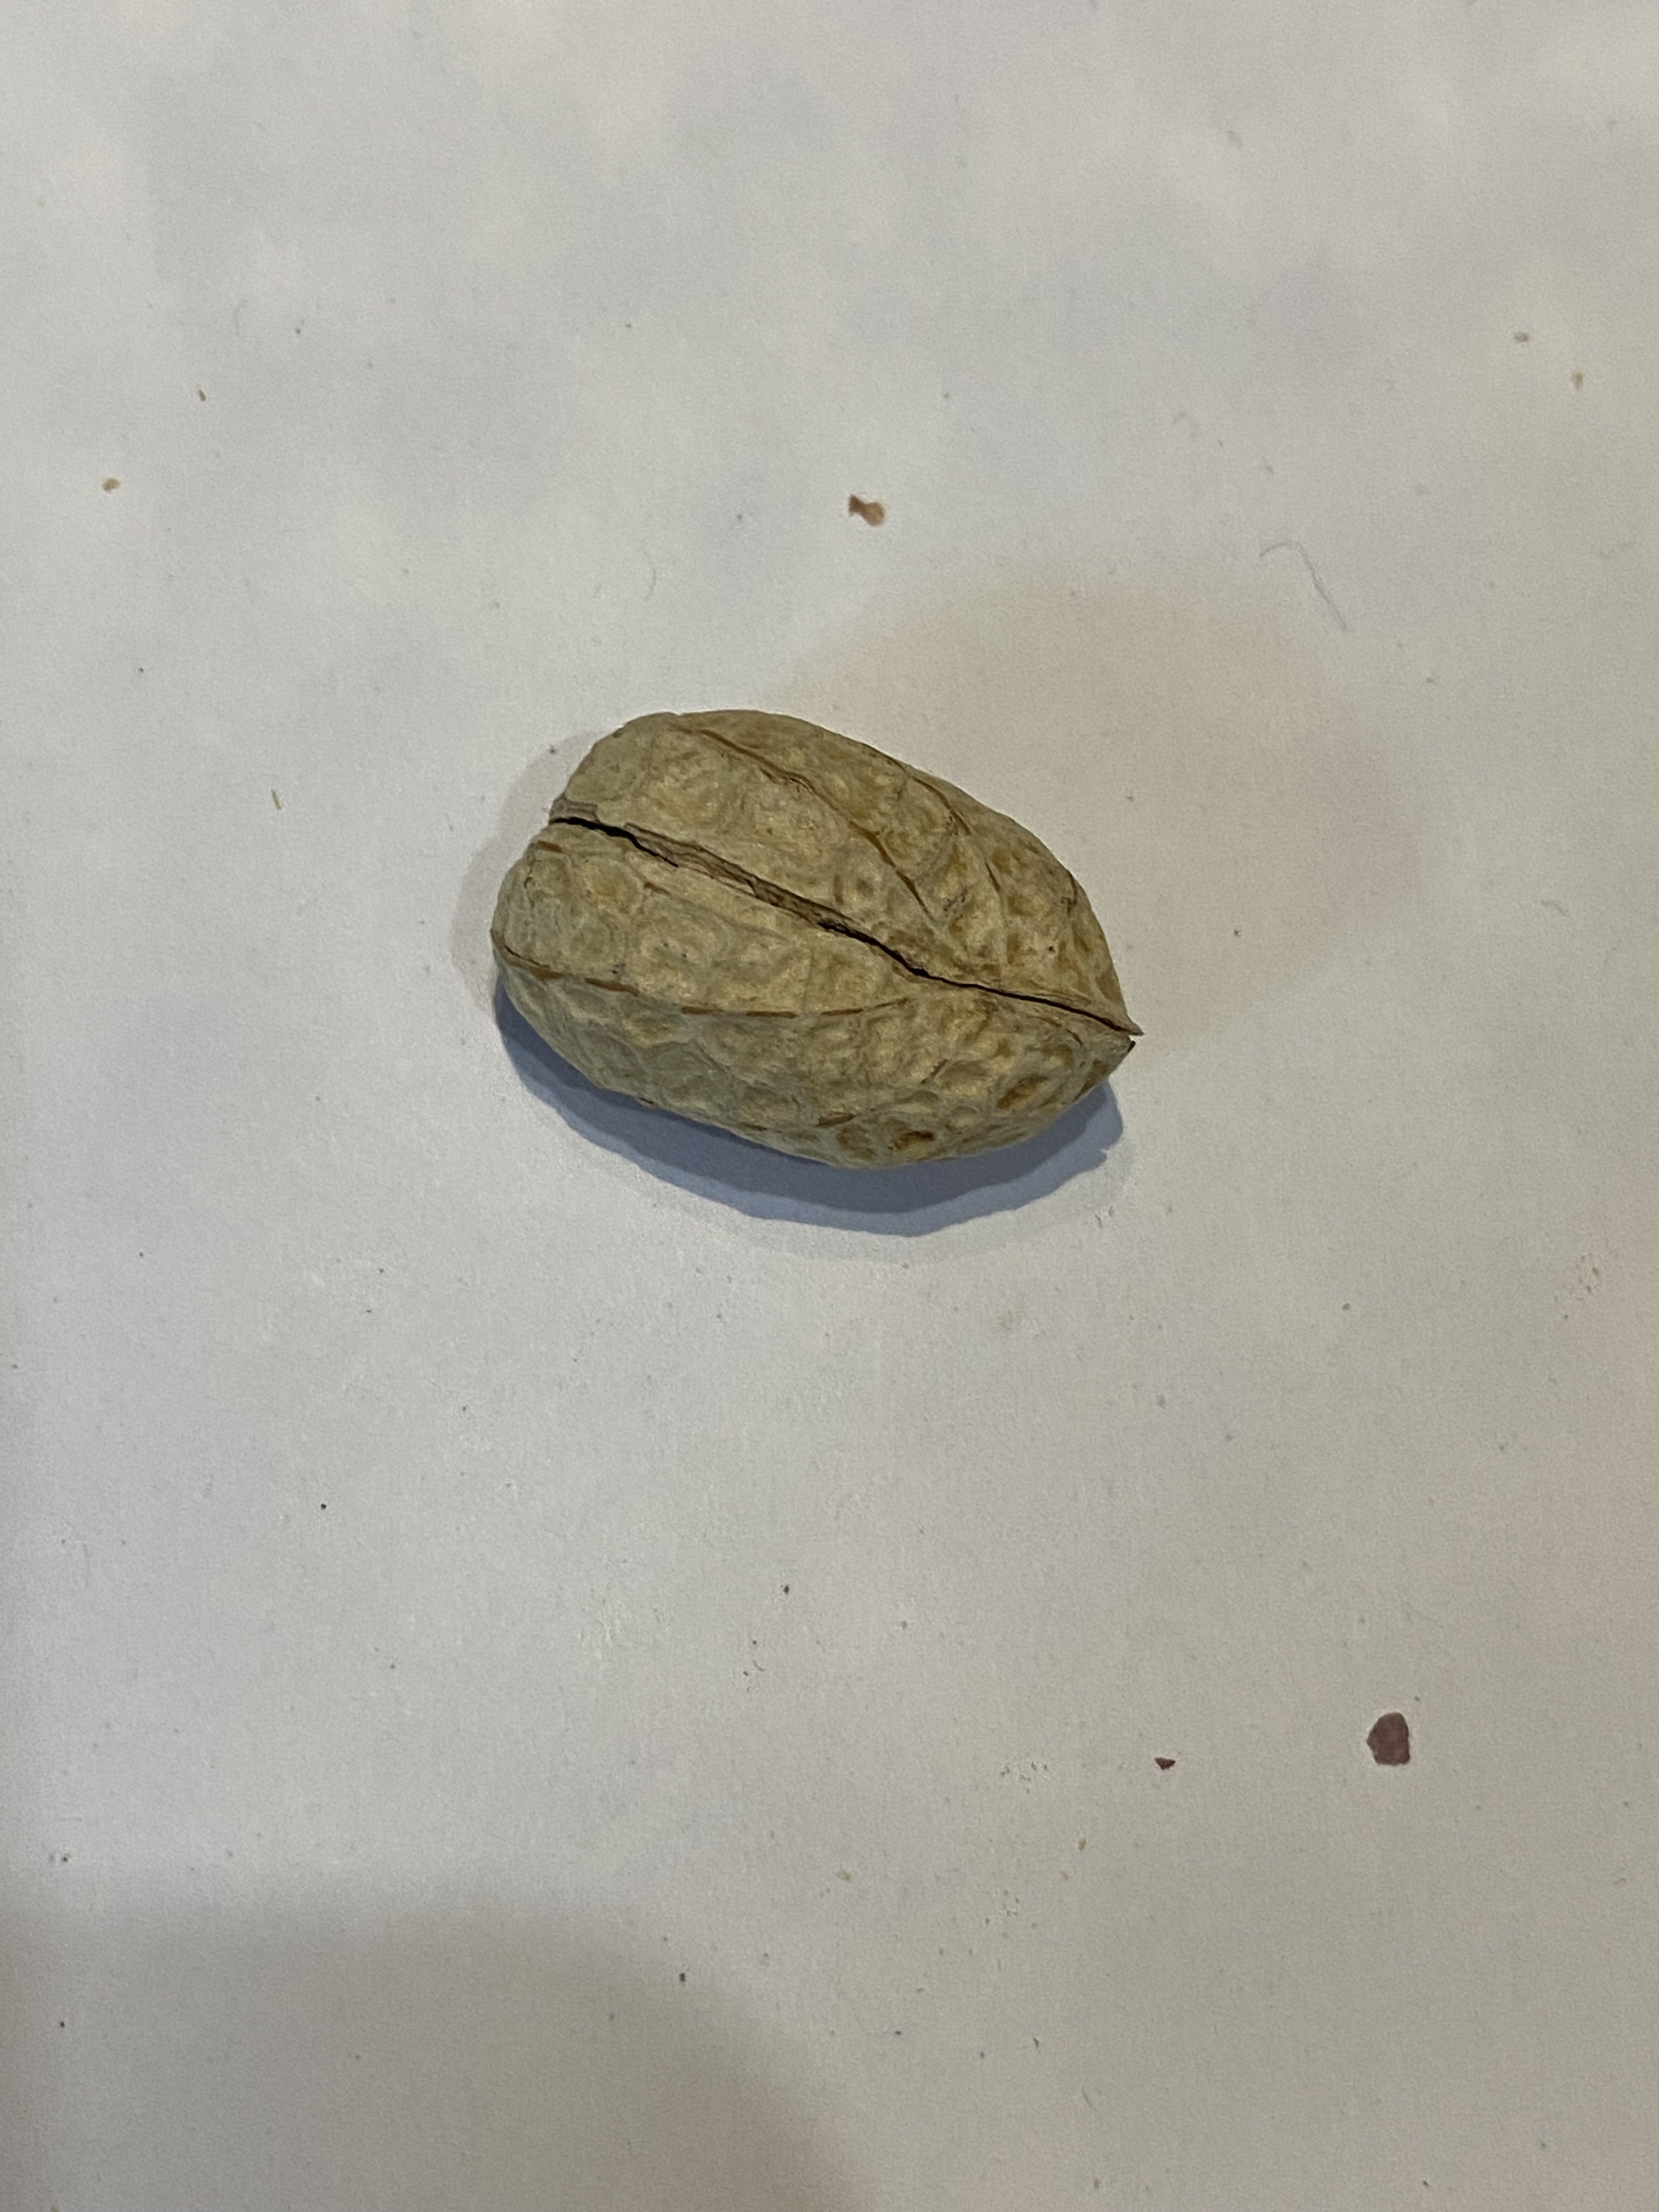kacang1: (484, 613, 1152, 1190)
